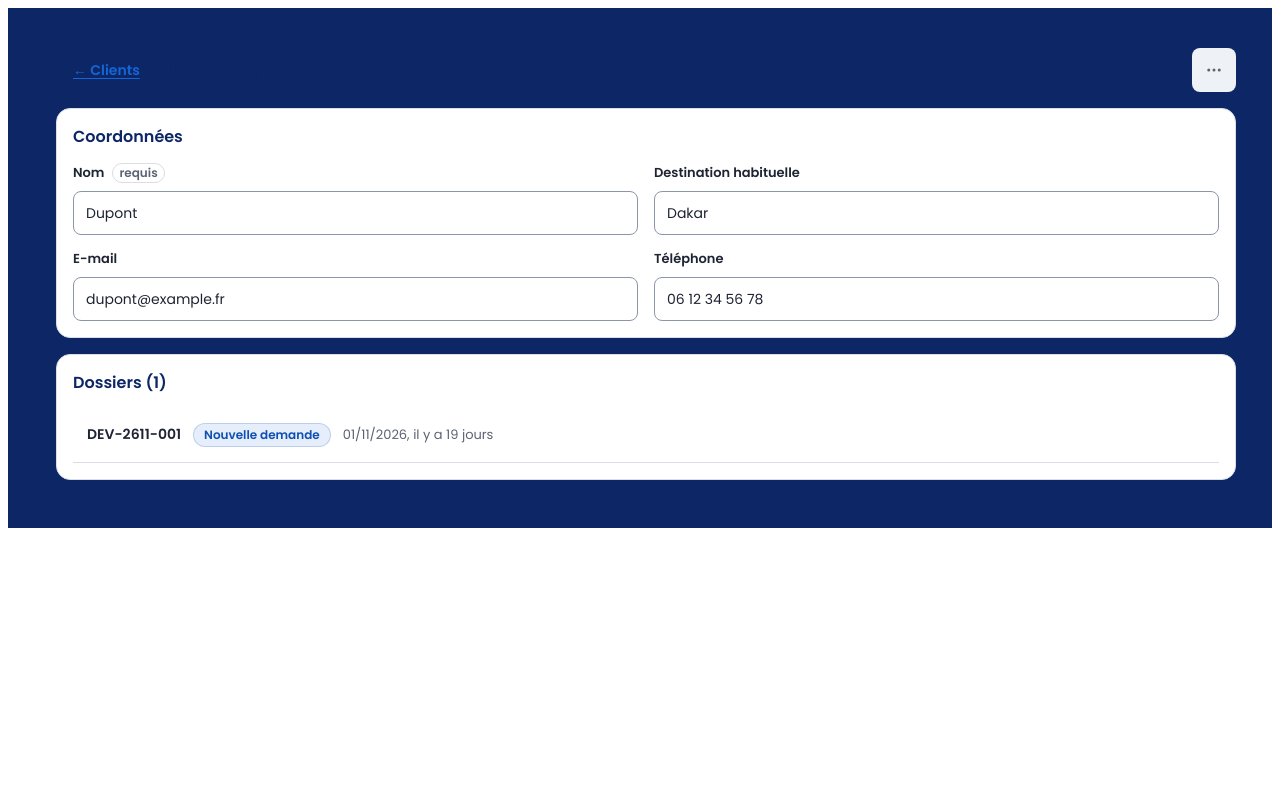
Test case: Fiche client › supprime la fiche seulement après une confirmation nommée
Later steps or results of the test are not shown.
What coordinates should you click on to do the following:
click the button named "Autres actions"
I would click on:
 (1214, 70)
Its box is x1=1192 y1=48 x2=1236 y2=92.
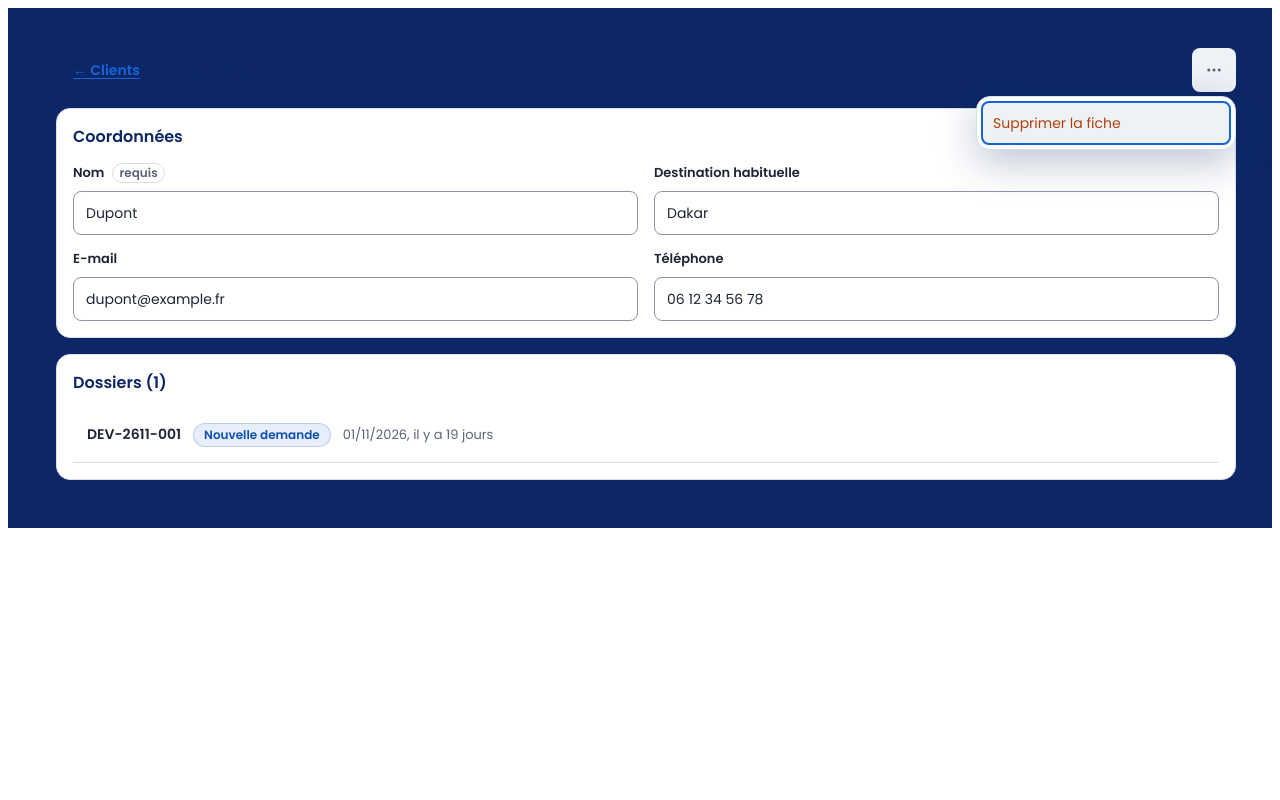
What coordinates should you click on to do the following:
click the menu item "Supprimer la fiche"
I would click on:
 (1106, 123)
Its box is x1=981 y1=101 x2=1231 y2=145.
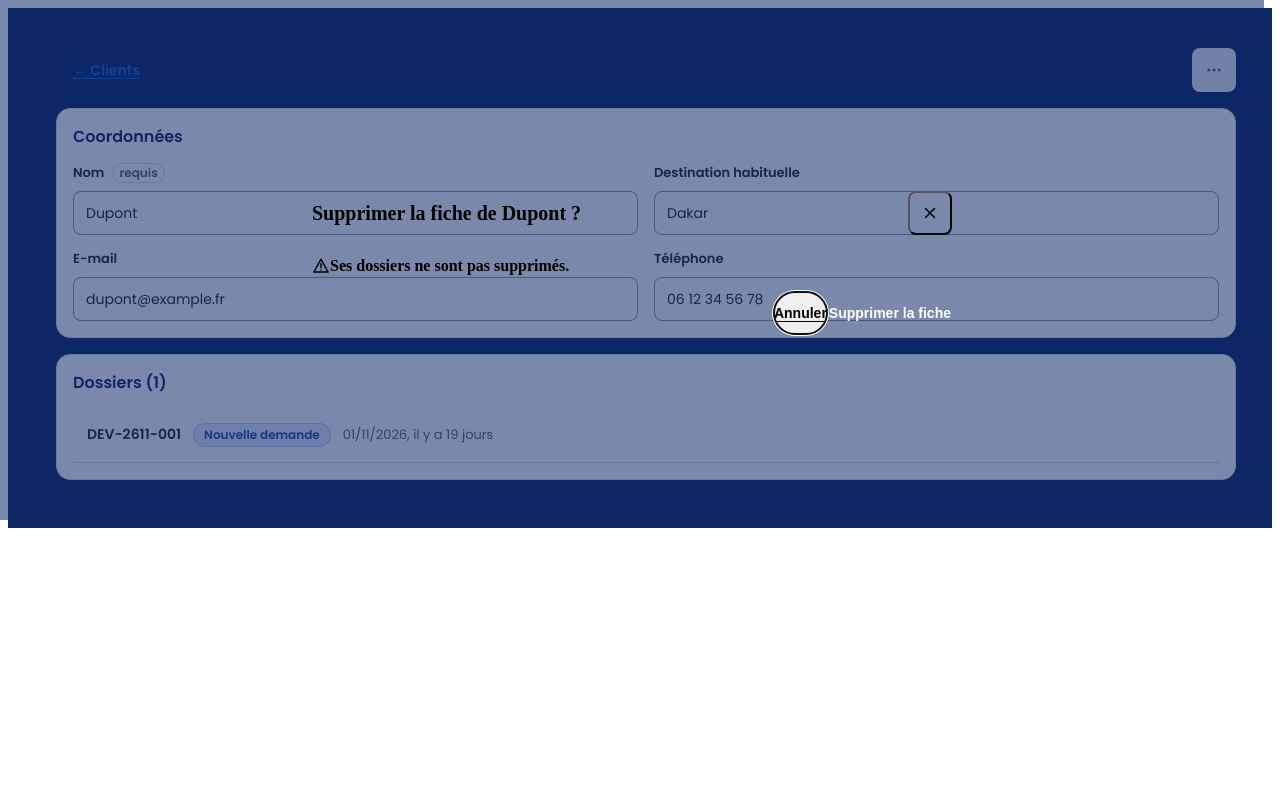
Result: the heading "Supprimer la fiche de Dupont ?" is shown at x1=312 y1=202 x2=581 y2=224
Result: the text "Ses dossiers ne sont pas supprimés." is shown at x1=330 y1=257 x2=569 y2=275
